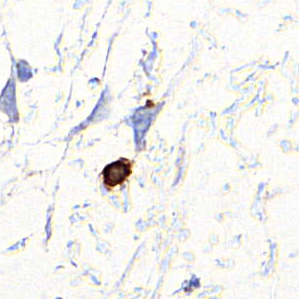Lymphocyte: (100, 160, 133, 187)
